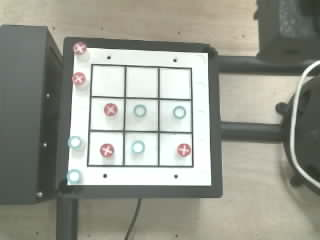blue circle: (67, 169, 80, 183), (134, 104, 147, 118), (131, 140, 144, 153), (68, 136, 81, 149), (173, 106, 185, 118)
board: (68, 48, 212, 185)
cells: (89, 132, 122, 165), (125, 133, 157, 165), (90, 98, 123, 129), (160, 134, 192, 165), (125, 99, 157, 130), (160, 100, 191, 131), (92, 66, 124, 96), (160, 68, 190, 98), (127, 67, 157, 97)
grid: (87, 64, 193, 167)
red cross: (104, 103, 117, 116), (72, 72, 85, 85), (100, 144, 113, 157), (177, 144, 191, 156), (73, 42, 86, 54)
